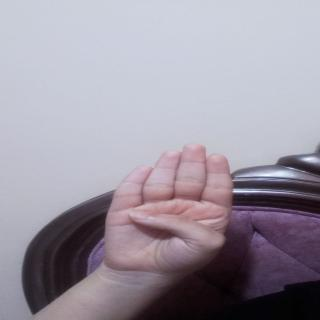KAAF: (104, 143, 244, 269)
